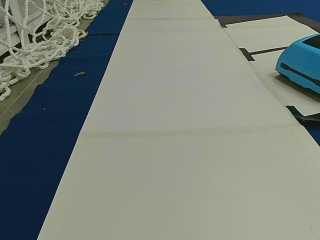car: (275, 31, 319, 93)
